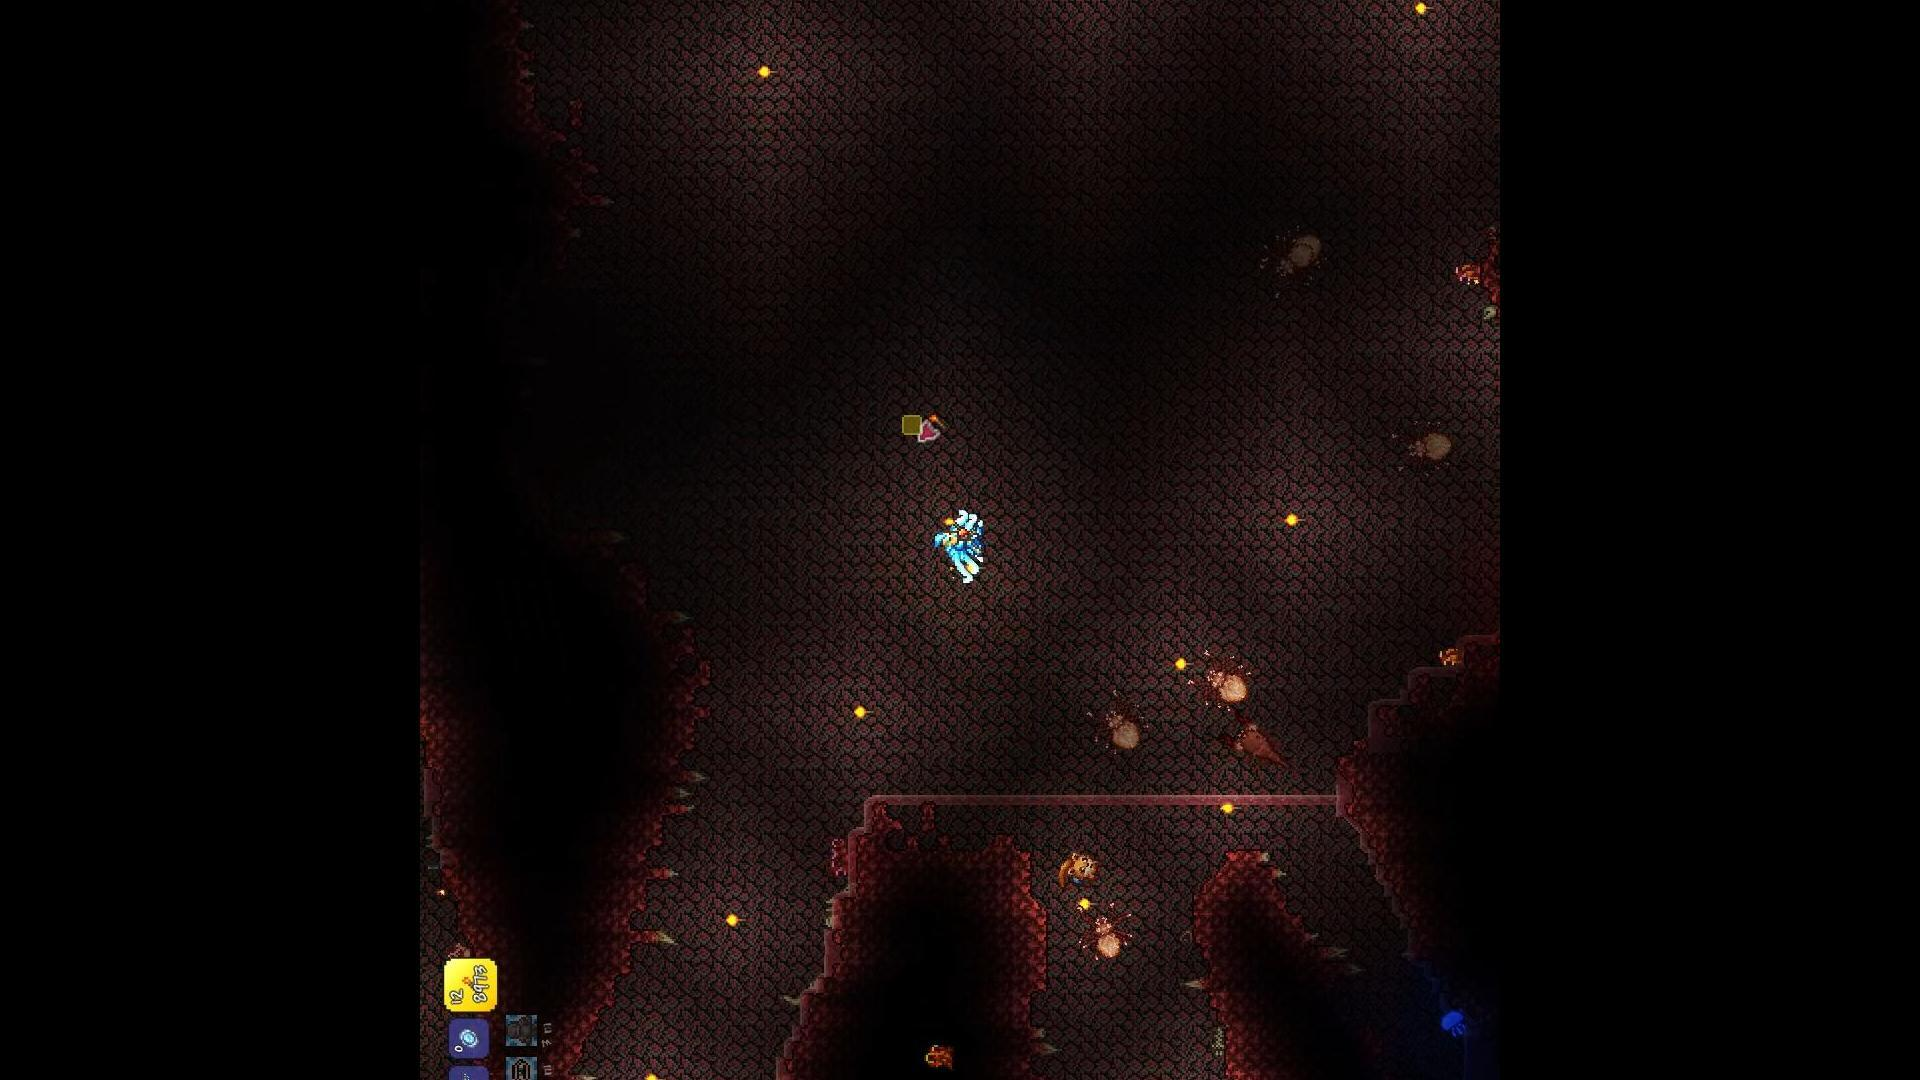spider: (1072, 687, 1158, 758), (1261, 223, 1332, 306), (1176, 649, 1259, 715), (1072, 898, 1142, 972), (1396, 418, 1461, 479)
